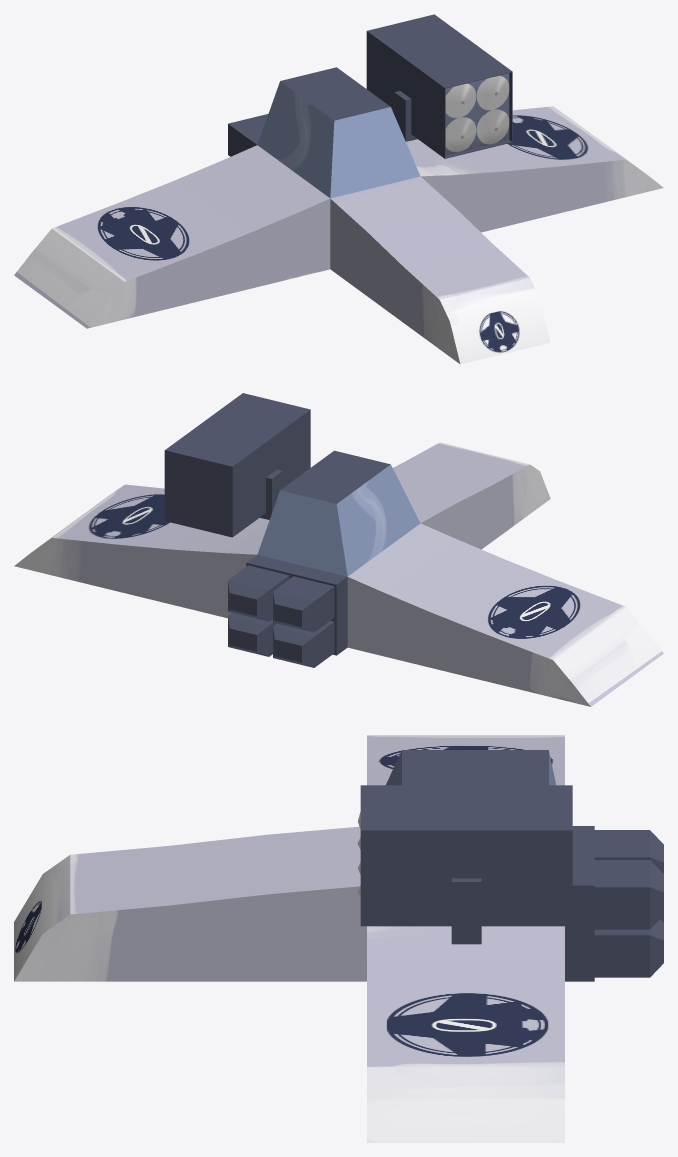
File: spaceship.FBX
The picture shows the model from 3 angles, top to bottom: view 1: azimuth 30°, elevation 25°; view 2: azimuth 150°, elevation 25°; view 3: azimuth 270°, elevation 25°; orthographic projection. The views are drawn at different scales.
Parts seen in each view (by area): view 1: Body, Cannon; view 2: Body, Cannon; view 3: Body, Cannon.
Part boxes in pixels (x1,y1,x2,y2): Body: (14,67,663,364); Cannon: (366,14,512,158); Body: (14,442,663,706); Cannon: (164,393,310,537); Body: (14,735,663,1142); Cannon: (358,785,572,944).
Bounding box in the file's own units: 128 × 32.94 × 91.98.
Materials: 2 (2 with a texture image).
